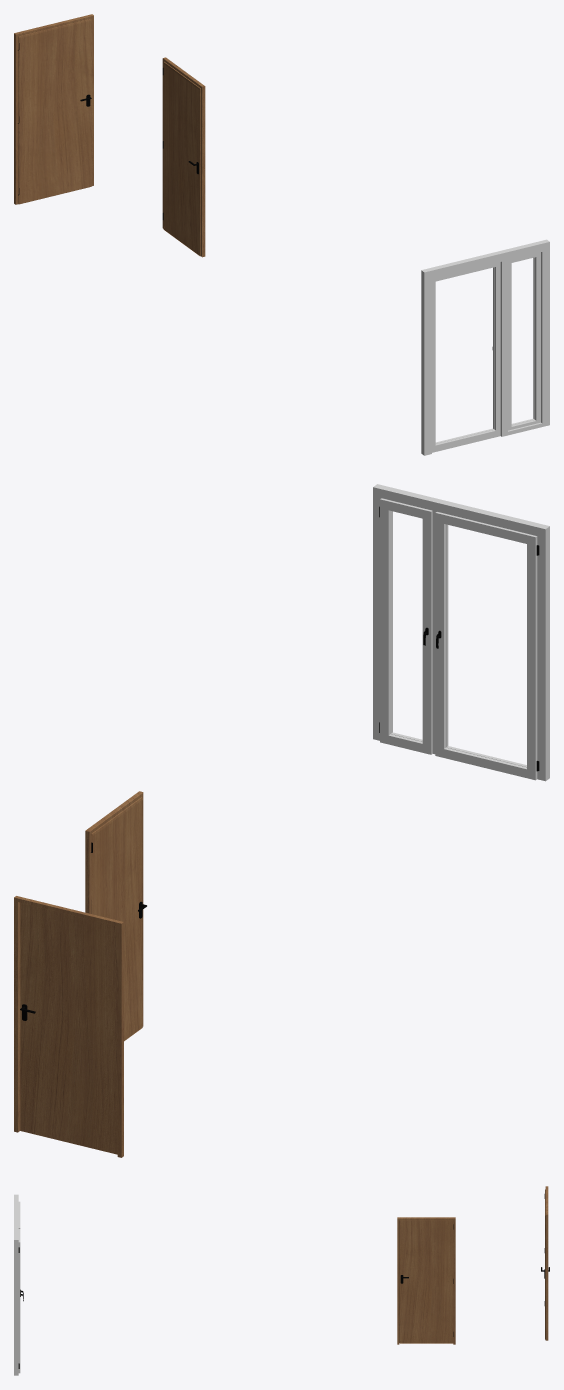
Rendered from doors.gltf.
3 views of the same model, one above another, from view 1: azimuth 30°, elevation 25°; view 2: azimuth 150°, elevation 25°; view 3: azimuth 270°, elevation 25° (orthographic). The views are drawn at different scales.
Visible parts, largest first — view 1: Door01, Window, Bathroom_door; view 2: Door01, Window, Bathroom_door; view 3: Bathroom_door, Window, Door01.
Boxes of the visible parts, x1,y1,x2,y2 form: Door01: (14, 14, 93, 204); Window: (421, 239, 549, 455); Bathroom_door: (162, 57, 205, 257); Door01: (14, 896, 123, 1157); Window: (373, 484, 549, 781); Bathroom_door: (85, 791, 143, 1041); Bathroom_door: (397, 1217, 455, 1344); Window: (14, 1194, 20, 1375); Door01: (545, 1186, 548, 1340).
Size of the model in its own units: 2.26 by 2.26 by 8.09.
Materials: 3 (1 with a texture image).
